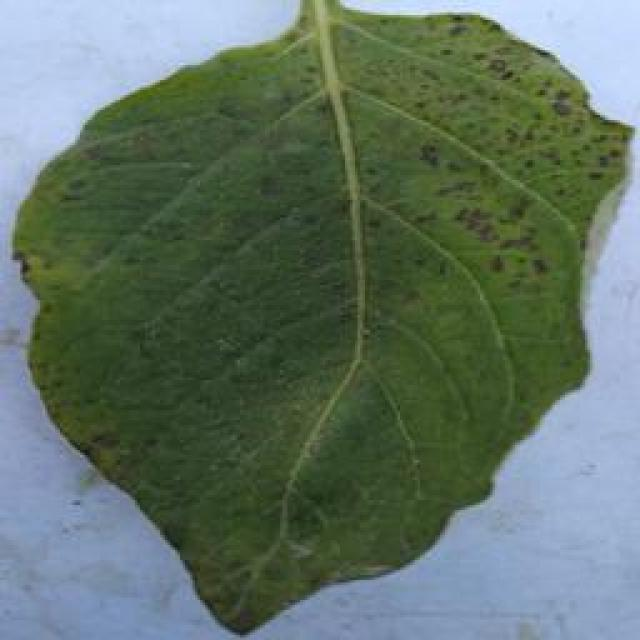Potato_Early_Blight: (12, 6, 640, 640)
